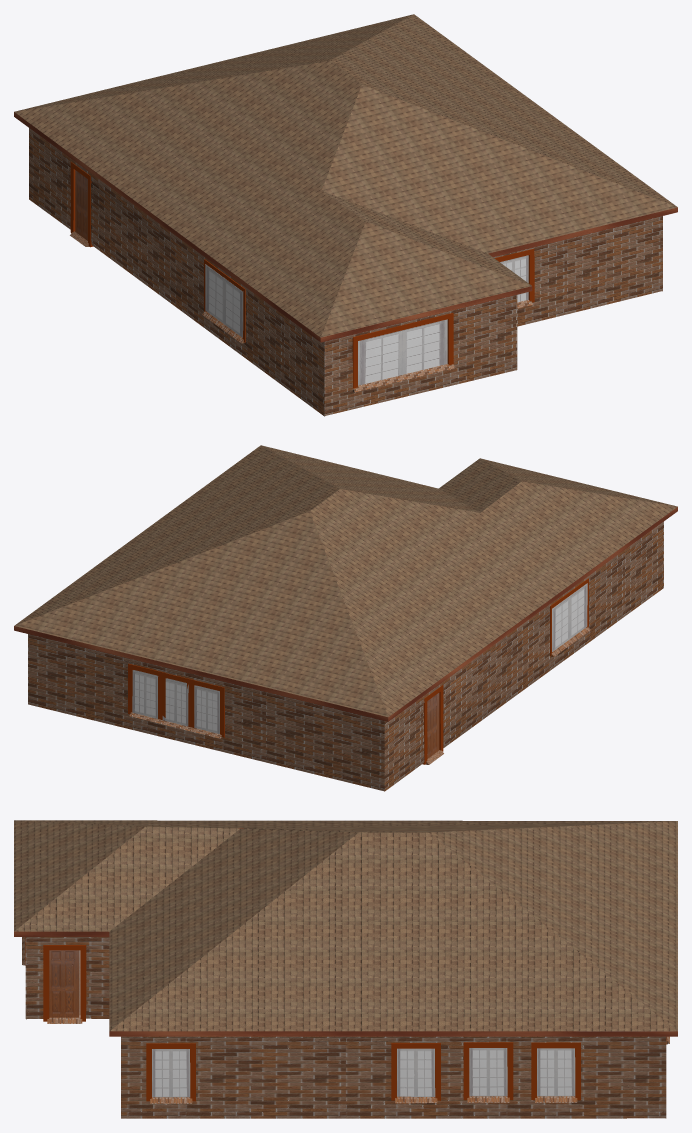
File: casa.obj
The picture shows the model from 3 angles, top to bottom: view 1: azimuth 30°, elevation 25°; view 2: azimuth 150°, elevation 25°; view 3: azimuth 270°, elevation 25°; orthographic projection. The views are drawn at different scales.
Parts seen in each view (by area): view 1: group2 Roof_5, group2 Roof_1, group2 Wall_1, group2 Roof_2, group2 Roof_4, Wall_3 group2, group2 Wall_2, group2 Roof_6, group2 pasted__Window_1, group2 Roof_Base, group2 Roof_3, group2 Window_1 (+4 smaller); view 2: group2 Roof_5, group2 Roof_6, group2 Wall_6, group2 Wall_1, group2 Roof_2, group2 Roof_Base, group2 Roof_1, group2 Roof_3, group2 Window_1, group2 Roof_4, pasted__pasted__Window_6 pasted__pasted__group2 pasted__group3 g, pasted__Window_6 pasted__group2 group3 (+6 smaller); view 3: group2 Roof_2, group2 Wall_5, group2 Roof_6, group2 Roof_1, group2 Roof_3, group2 Roof_4, group2 Roof_5, group2 Roof_Base, group2 Wall_4, group2 Door_1, group2 Window_5, group2 Window_6 (+7 smaller).
Part boxes in pixels (x1,y1,x2,y2): group2 Roof_5: (14, 61, 365, 337); group2 Roof_1: (321, 85, 677, 253); group2 Wall_1: (29, 128, 324, 416); group2 Roof_2: (330, 14, 676, 206); group2 Roof_4: (321, 221, 531, 337); Wall_3 group2: (493, 216, 662, 326); group2 Wall_2: (324, 295, 517, 415); group2 Roof_6: (15, 14, 413, 111); group2 pasted__Window_1: (358, 319, 447, 385); group2 Roof_Base: (14, 112, 677, 342); group2 Roof_3: (323, 191, 531, 285); group2 Window_1: (205, 264, 243, 337); group2 Roof_5: (309, 481, 677, 716); group2 Roof_6: (14, 511, 387, 716); group2 Wall_6: (28, 634, 384, 791); group2 Wall_1: (384, 521, 663, 791); group2 Roof_2: (15, 445, 339, 625); group2 Roof_Base: (14, 507, 677, 721); group2 Roof_1: (261, 445, 478, 512); group2 Roof_3: (439, 458, 521, 512); group2 Window_1: (552, 583, 587, 651); group2 Roof_4: (480, 458, 675, 506); pasted__pasted__Window_6 pasted__pasted__group2 pasted__group3 g: (132, 670, 219, 732); pasted__Window_6 pasted__group2 group3: (194, 685, 219, 733); group2 Roof_2: (110, 832, 677, 1031); group2 Wall_5: (121, 1036, 666, 1118); group2 Roof_6: (429, 821, 677, 1030); group2 Roof_1: (109, 828, 358, 1030); group2 Roof_3: (14, 826, 239, 931); group2 Roof_4: (14, 820, 144, 931); group2 Roof_5: (17, 820, 675, 832); group2 Roof_Base: (14, 828, 677, 1036); group2 Wall_4: (25, 937, 109, 1019); group2 Door_1: (49, 950, 79, 1017); group2 Window_5: (469, 1048, 507, 1096); group2 Window_6: (537, 1048, 575, 1096).
Size of the model in its own units: 12.96 by 5.44 by 17.22.
Materials: 33 (33 with a texture image).
